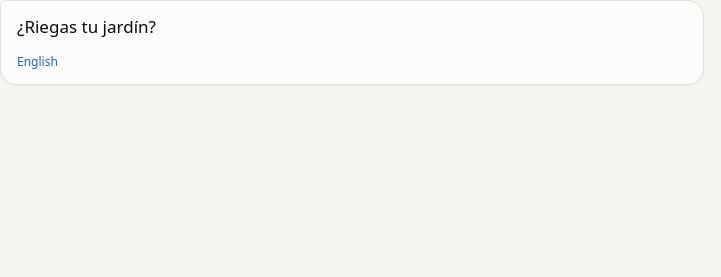
it: TutorMessage › looks up a clicked word
Click the button "Riegas".
click(51, 27)  # box [24, 13, 77, 40]
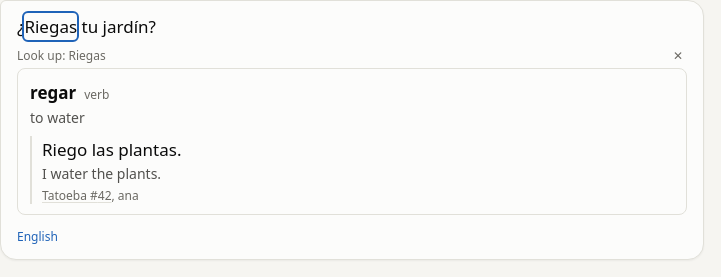
Expected: the text "to water" is shown, [30, 108, 85, 127]
